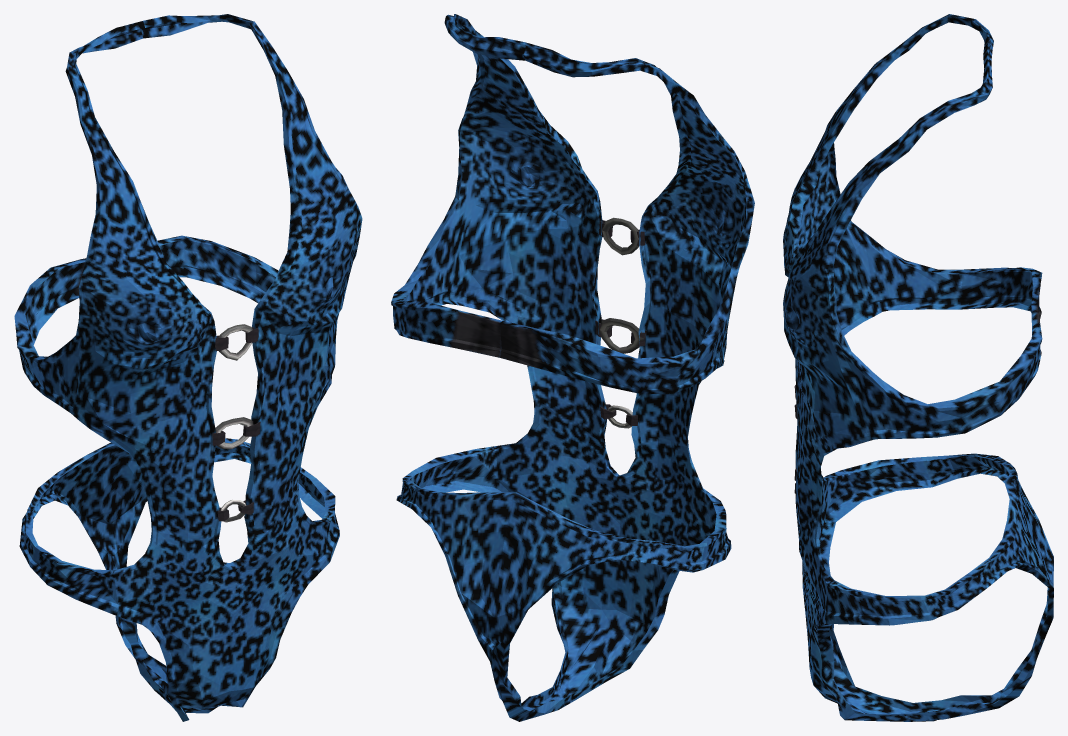
File: mhw_punkduck_teddy_erotic_lingerie.glb
The picture shows the model from 3 angles, left to right: view 1: azimuth 30°, elevation 25°; view 2: azimuth 150°, elevation 25°; view 3: azimuth 270°, elevation 25°; orthographic projection. The views are drawn at different scales.
Parts seen in each view (by area): view 1: mhw_punkduck_teddy_erotic_lingerie; view 2: mhw_punkduck_teddy_erotic_lingerie; view 3: mhw_punkduck_teddy_erotic_lingerie.
Part boxes in pixels (x1,y1,x2,y2): mhw_punkduck_teddy_erotic_lingerie: (14,14,362,721); mhw_punkduck_teddy_erotic_lingerie: (391,14,754,721); mhw_punkduck_teddy_erotic_lingerie: (783,14,1053,721).
Bounding box in the file's own units: 0.3184 × 0.6986 × 0.2553.
1 material, 1 textured.
